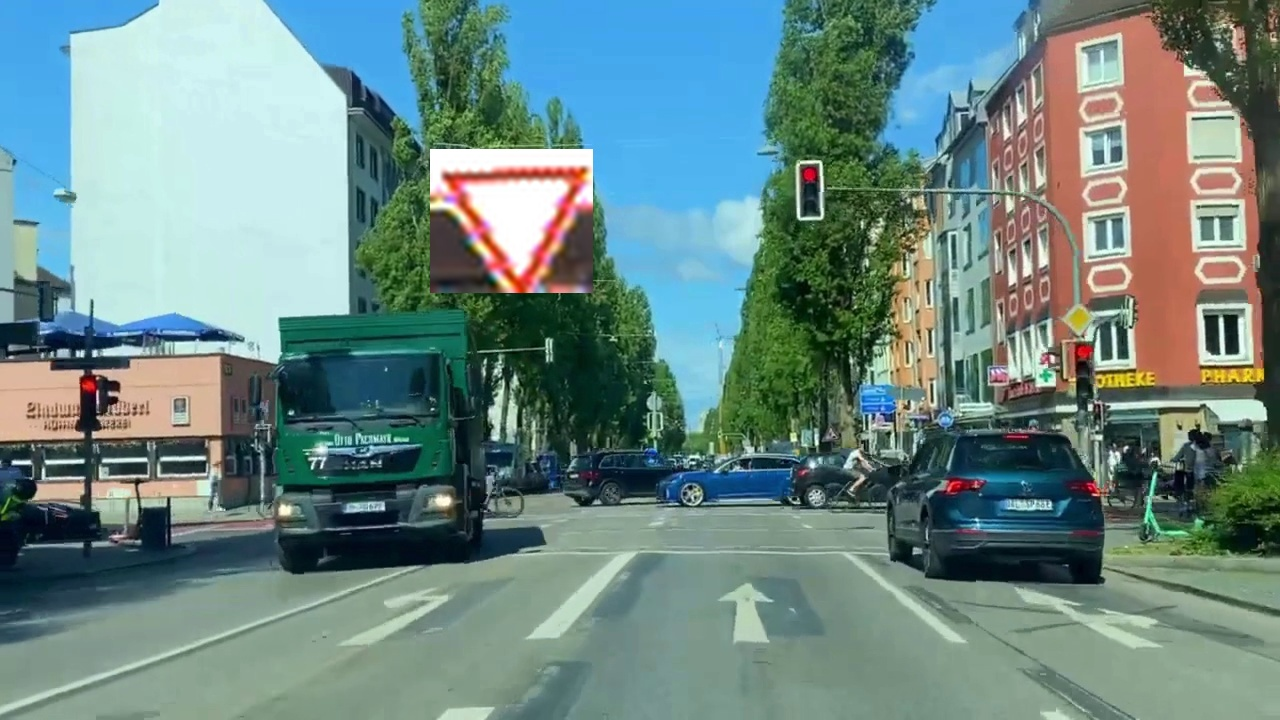Yield: (430, 149, 593, 293)
